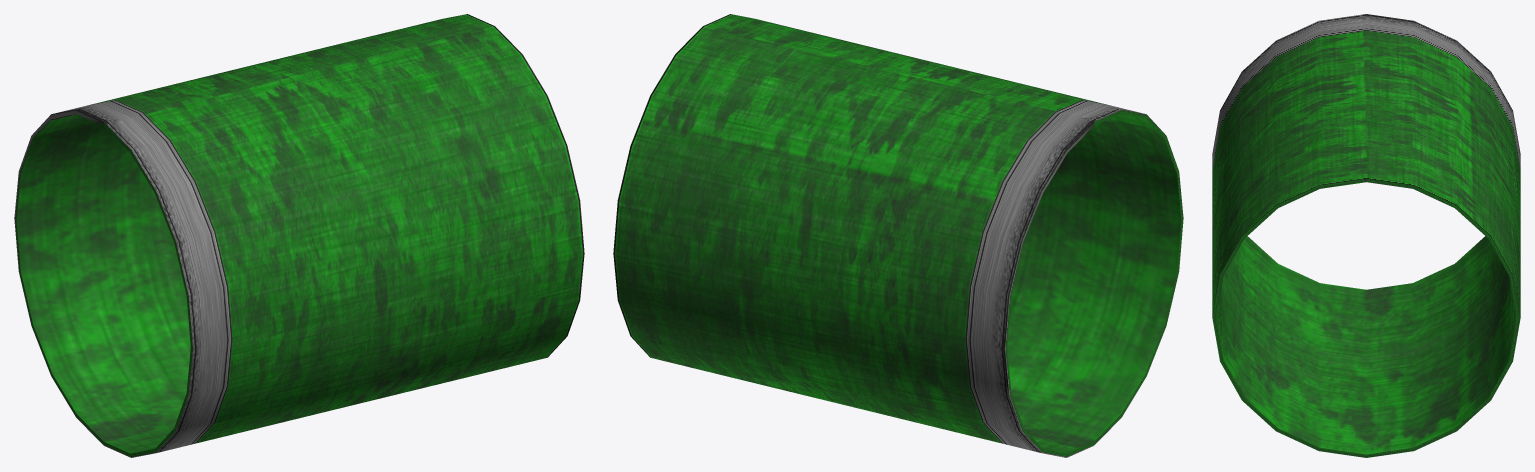
Rendered from CubeBaseFrontPipeLeftG.fbx.
The picture shows the model from 3 angles, left to right: view 1: azimuth 30°, elevation 25°; view 2: azimuth 150°, elevation 25°; view 3: azimuth 270°, elevation 25°; orthographic projection. The views are drawn at different scales.
Visible parts, largest first — view 1: pPipe1; view 2: pPipe1; view 3: pPipe1.
Part boxes in pixels (x1,y1,x2,y2): pPipe1: (14,14,584,457); pPipe1: (613,14,1183,457); pPipe1: (1212,14,1520,457).
Bounding box in the file's own units: 1.01 × 0.8 × 0.8.
1 material, 1 textured.
